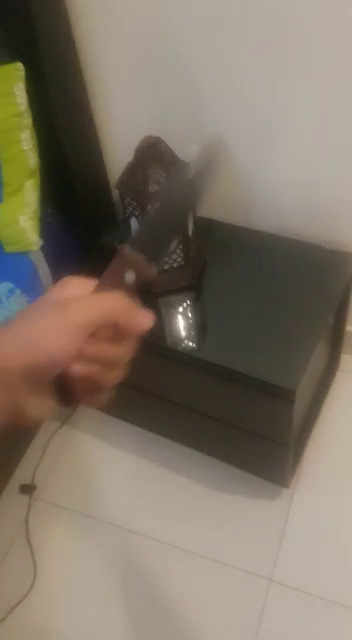knife: (82, 106, 281, 310)
